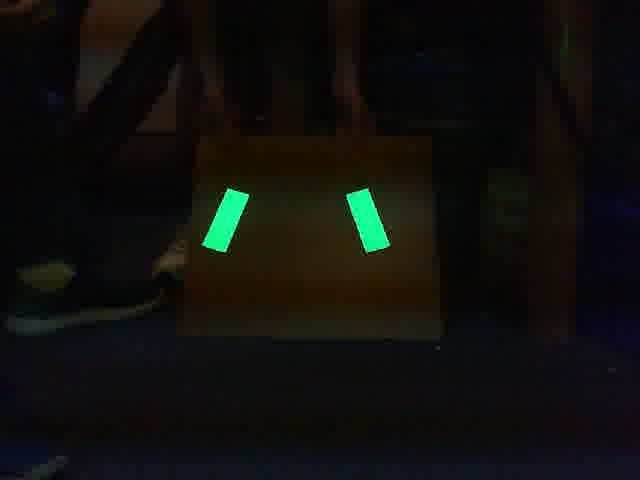target: (199, 186, 393, 257)
